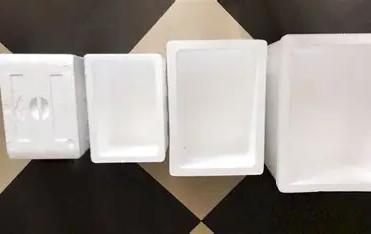ROAD_OBSTACLE: (265, 32, 371, 185), (167, 38, 267, 175), (0, 51, 89, 157), (84, 50, 167, 162)
